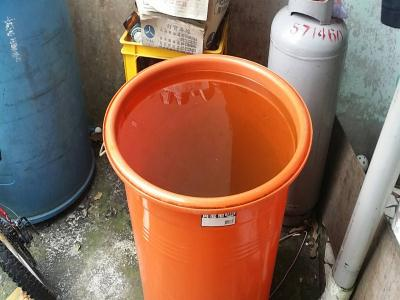box: (138, 8, 231, 54)
bucket: (98, 52, 318, 300)
